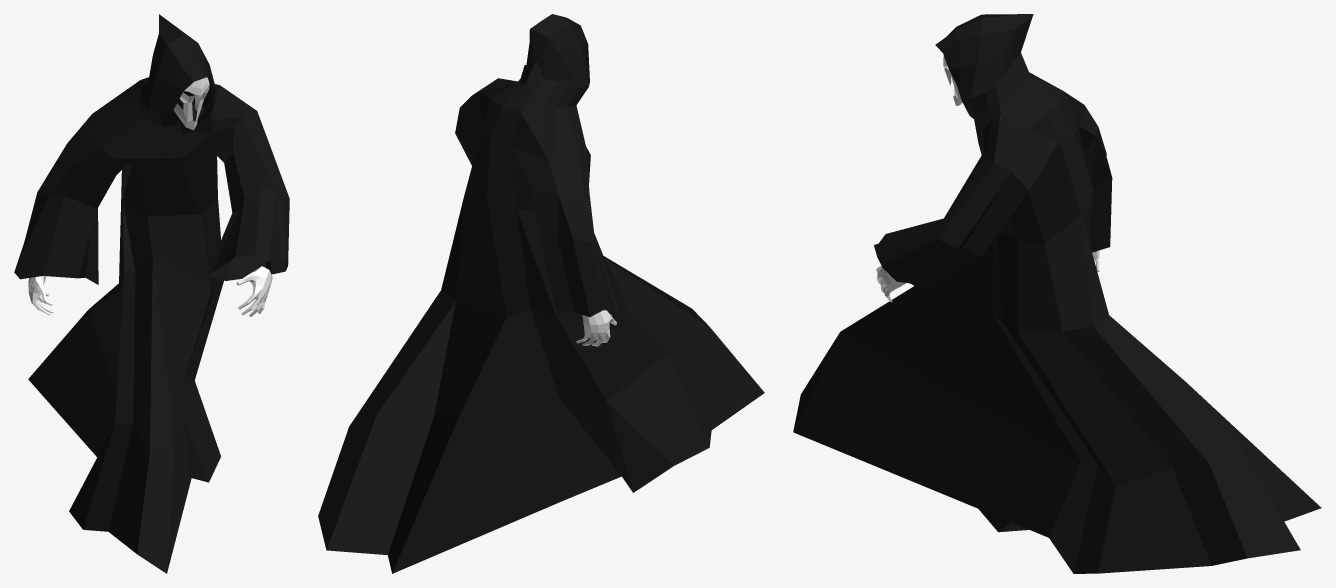
File: ReaperWalk(28).obj
3 views of the same model, side by side, from view 1: azimuth 30°, elevation 25°; view 2: azimuth 150°, elevation 25°; view 3: azimuth 270°, elevation 25° (orthographic). The views are drawn at different scales.
Visible parts, largest first — view 1: Plane003; view 2: Plane003; view 3: Plane003.
Part boxes in pixels (<box>): Plane003: <box>14,14,289,573</box>; Plane003: <box>318,14,764,573</box>; Plane003: <box>793,14,1321,573</box>.
Size of the model in its own units: 110 by 209 by 191.
